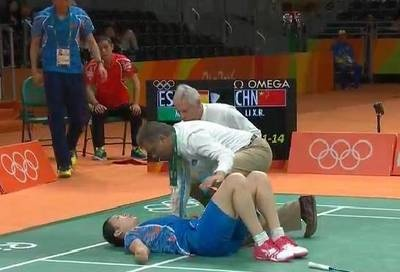falling: (103, 169, 322, 264)
